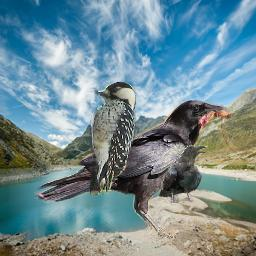Crow: (34, 95, 247, 238), (158, 145, 207, 203)
Woodpecker: (90, 81, 136, 195)
